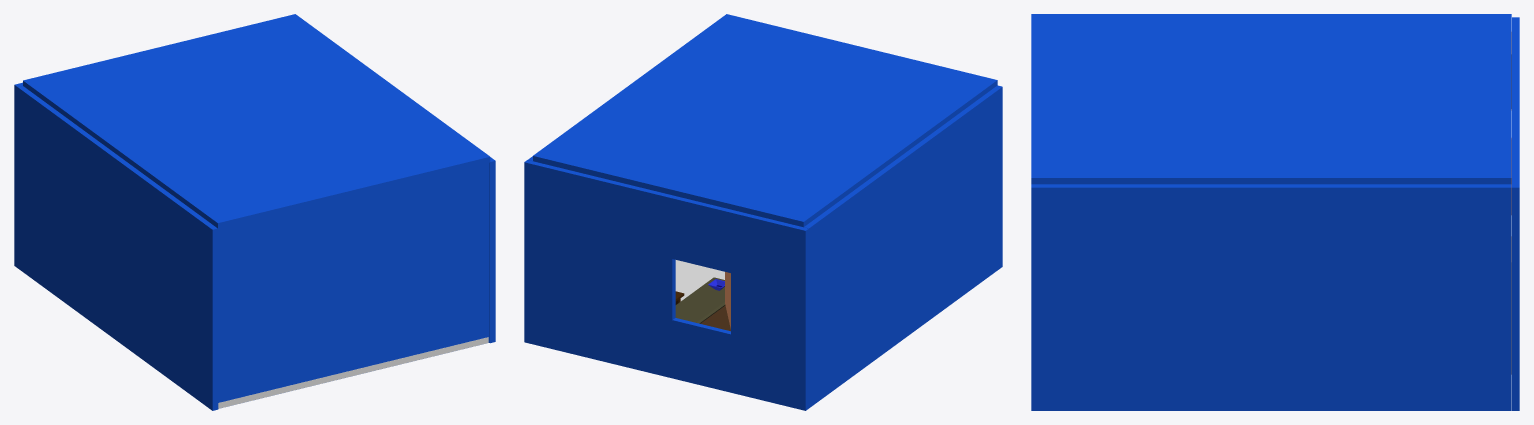
The model's file is ExportedBlenderFBXFile.fbx.
3 views of the same model, side by side, from view 1: azimuth 30°, elevation 25°; view 2: azimuth 150°, elevation 25°; view 3: azimuth 270°, elevation 25° (orthographic). The views are drawn at different scales.
Visible parts, largest first — view 1: Techo, Pared.001, Pared.003, Suelo, Pared, Pared.002; view 2: Techo, Pared.002, Pared.003, Isla, Suelo, Pared.001; view 3: Pared, Techo, Pared.002.
Boxes of the visible parts, box(x1,y1,x2,y2) form: Techo: box(23, 14, 490, 228); Pared.001: box(208, 162, 489, 410); Pared.003: box(17, 86, 218, 410); Suelo: box(218, 337, 488, 408); Pared: box(489, 157, 495, 343); Pared.002: box(14, 82, 22, 267); Techo: box(533, 14, 997, 227); Pared.002: box(524, 160, 808, 410); Pared.003: box(804, 85, 1002, 408); Isla: box(675, 277, 730, 331); Suelo: box(675, 260, 724, 301); Pared.001: box(999, 87, 1002, 269); Pared: box(1031, 184, 1511, 410); Techo: box(1031, 14, 1511, 184); Pared.002: box(1512, 17, 1519, 410).
Size of the model in its own units: 9.63 by 6.06 by 11.67.
